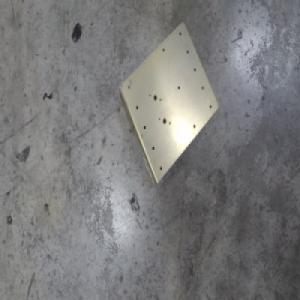MetalSheet: (116, 18, 220, 187)
